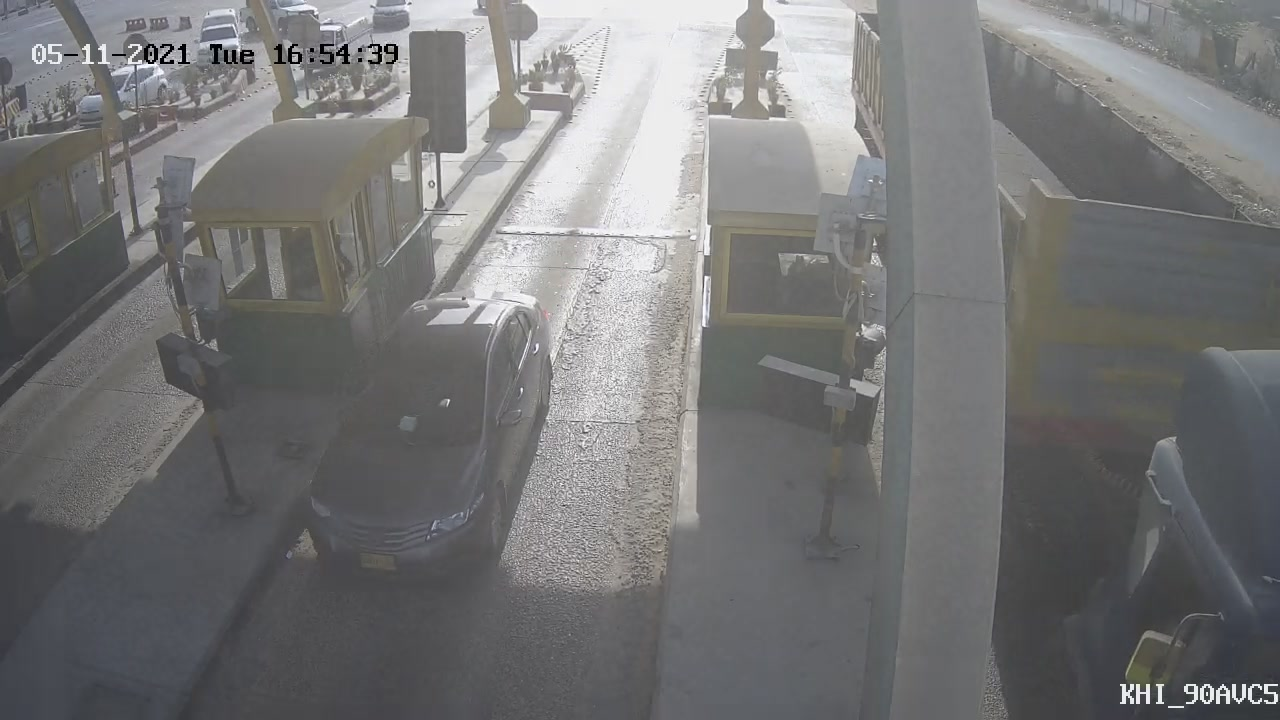F1: (278, 275, 574, 600)
